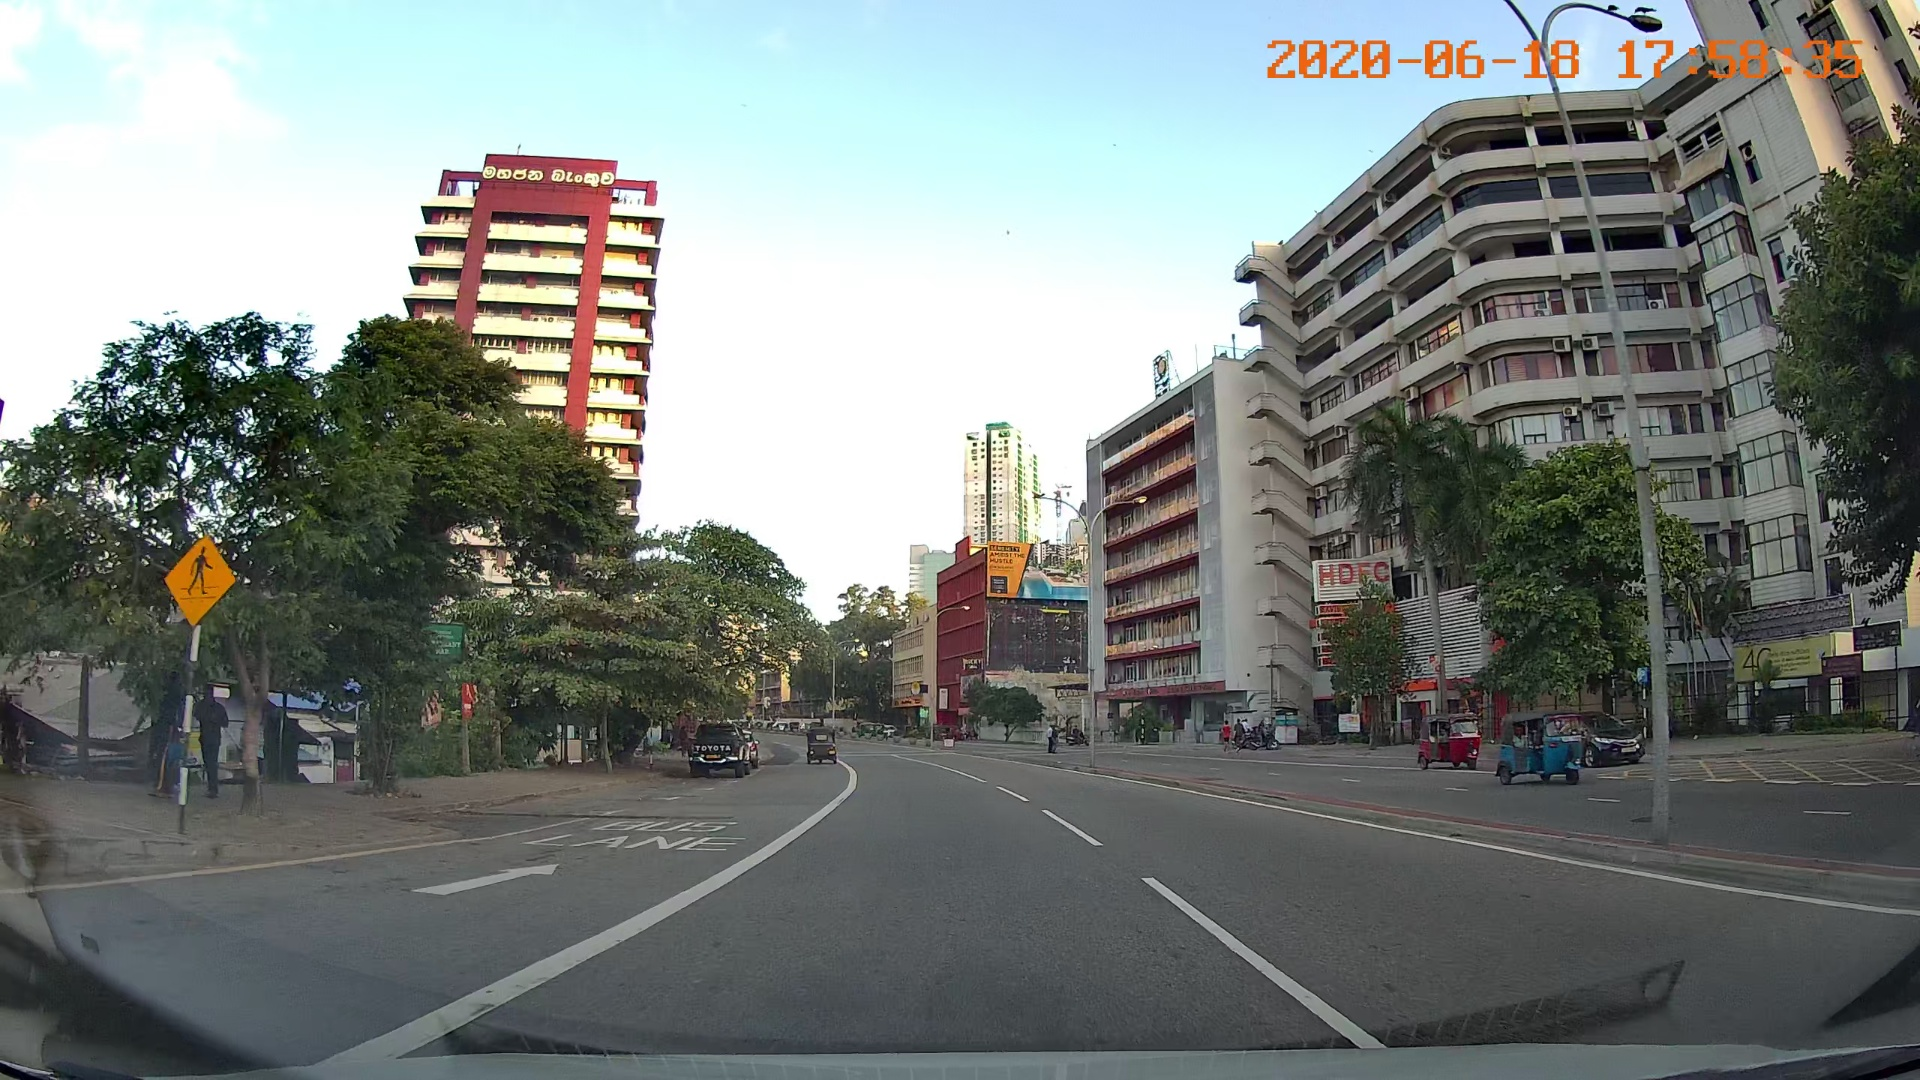arrow: (394, 862, 572, 916)
bus lane: (530, 804, 744, 856)
